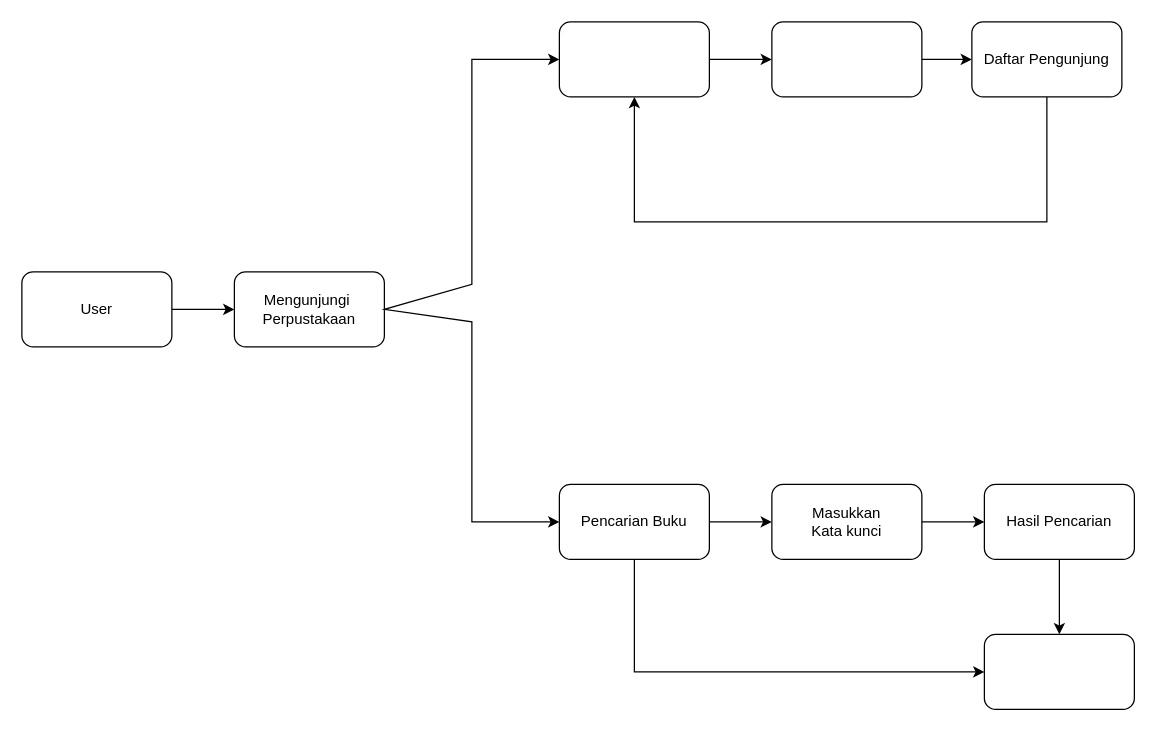
Some shapes in this 1156 by 731 pixel diagram are drawn without their labels. Here are the shapes that lost their labels. From the top down, the box of each, then its label:
(558, 21, 709, 97): Isi Form Pengunjung
(771, 21, 922, 97): Kirim
(983, 633, 1134, 709): Lihat Rincian Buku
